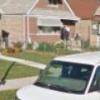cars: (14, 50, 99, 100)
